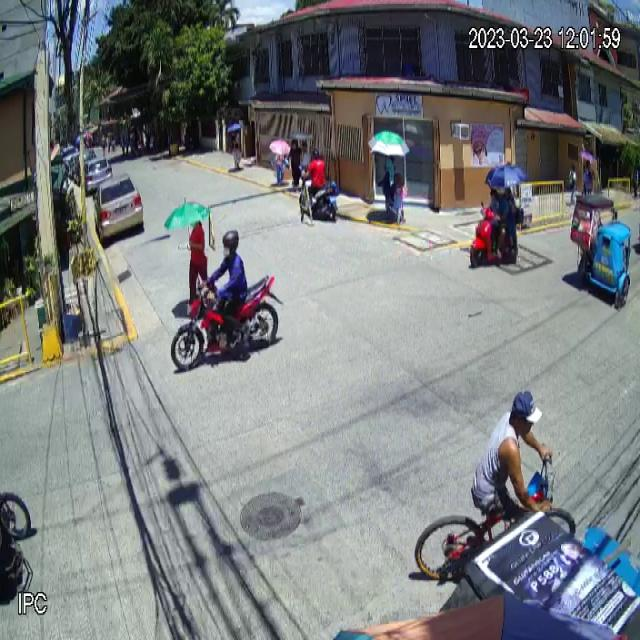Motorcycle: (170, 270, 284, 375), (469, 199, 524, 271)
Tricycle: (570, 194, 632, 308)
